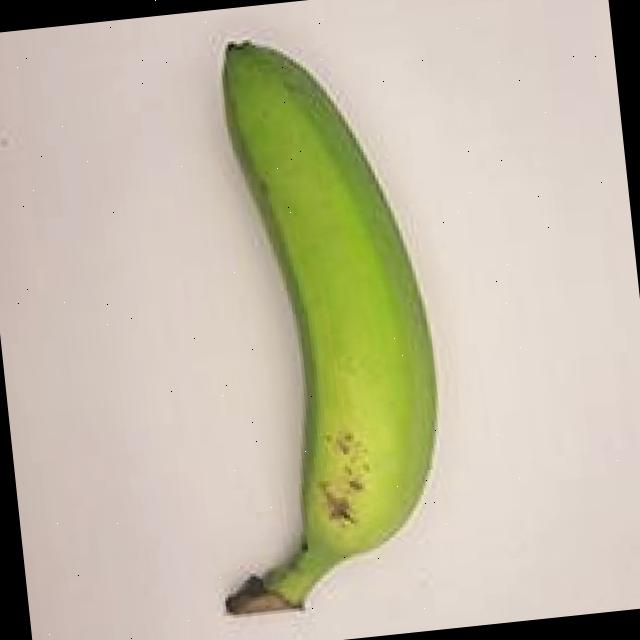Unripe: (111, 3, 486, 640)
